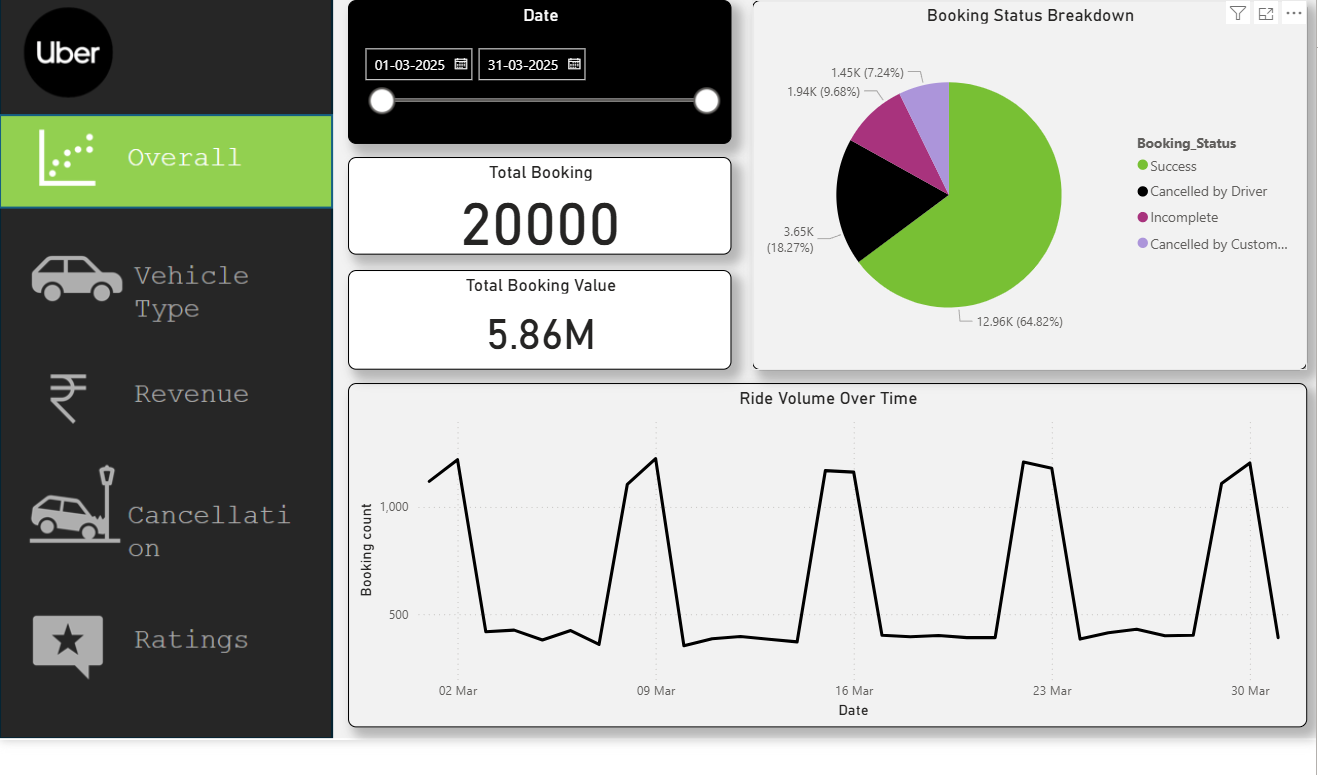

This screenshot's page, from the dashboard's own definition file:
{"tool":"powerbi","page":{"name":"Overall","canvas":[1280,720],"ordinal":0},"visuals":[{"type":"actionButton","box":[0,227.6,325.8,91.4],"z":0},{"type":"actionButton","box":[0,450.4,325.4,97.5],"z":1000},{"type":"actionButton","box":[0,335.2,325.4,90.4],"z":2000},{"type":"actionButton","box":[0,574.6,325.4,94],"z":3000},{"type":"lineChart","title":"Ride Volume Over Time","fields":{"Y":["CountNonNull(Sheet1 (2).Booking_ID)"],"Category":["Sheet1 (2).Date"]},"box":[338.4,372.9,932.7,334.5],"z":4000},{"type":"pieChart","title":"Booking Status Breakdown","fields":{"Category":["Sheet1 (2).Booking_Status"],"Y":["CountNonNull(Sheet1 (2).Booking_Status)"]},"box":[731,0,540.1,360.1],"z":5000},{"type":"slicer","title":"Date","fields":{"Values":["Sheet1 (2).Date"]},"box":[338.5,0,373.5,140.1],"z":6000},{"type":"card","title":"Total Booking","fields":{"Values":["Count(Sheet1 (2).Booking_ID)"]},"box":[338.5,152.7,373.5,95.3],"z":7000},{"type":"card","title":"Total Booking Value","fields":{"Values":["Sum(Sheet1 (2).Booking_Value)"]},"box":[338.5,262.6,373.5,97.3],"z":8000}]}

Visuals, with their boxes on the page's 1280x720 design canvas (x1, y1, x2, y2). These are canvas units, not pixel positions in the 1318x775 screenshot, which may show the page scaled, cropped or inside an application window:
actionButton: bbox=[0, 228, 326, 319]
actionButton: bbox=[0, 450, 325, 548]
actionButton: bbox=[0, 335, 325, 426]
actionButton: bbox=[0, 575, 325, 669]
"Ride Volume Over Time" lineChart: bbox=[338, 373, 1271, 707]
"Booking Status Breakdown" pieChart: bbox=[731, 0, 1271, 360]
"Date" slicer: bbox=[338, 0, 712, 140]
"Total Booking" card: bbox=[338, 153, 712, 248]
"Total Booking Value" card: bbox=[338, 263, 712, 360]
